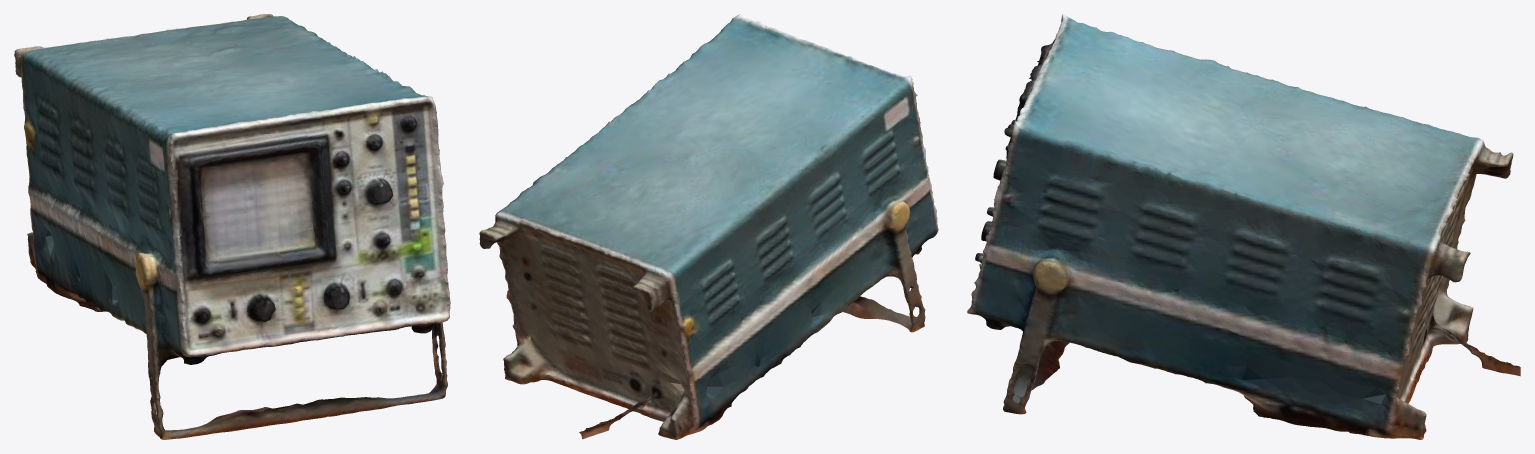
The model's file is output_resized.glb.
3 views of the same model, side by side, from view 1: azimuth 30°, elevation 25°; view 2: azimuth 150°, elevation 25°; view 3: azimuth 270°, elevation 25° (orthographic). The views are drawn at different scales.
Visible parts, largest first — view 1: mesh; view 2: mesh; view 3: mesh.
Boxes of the visible parts, <box> form: mesh: <box>14,14,450,439</box>; mesh: <box>479,14,938,439</box>; mesh: <box>967,14,1520,439</box>.
Bounding box in the file's own units: 0.329 × 0.289 × 0.5065.
Materials: 1 (1 with a texture image).
